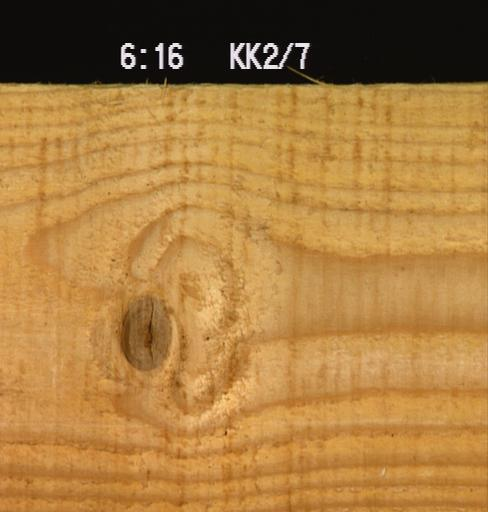sound_knot: (115, 292, 173, 373)
